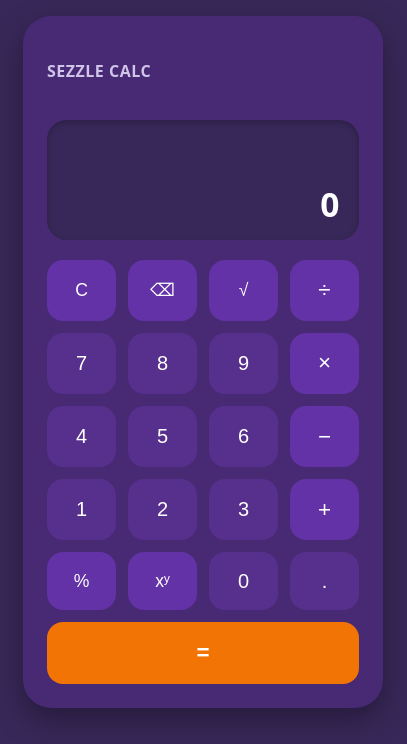
it: Calculator Component › handles user digit inputs, decimal, and backspace correctly
The image size is (407, 744).
Click the button "1": (82, 510) [47, 479, 116, 540]
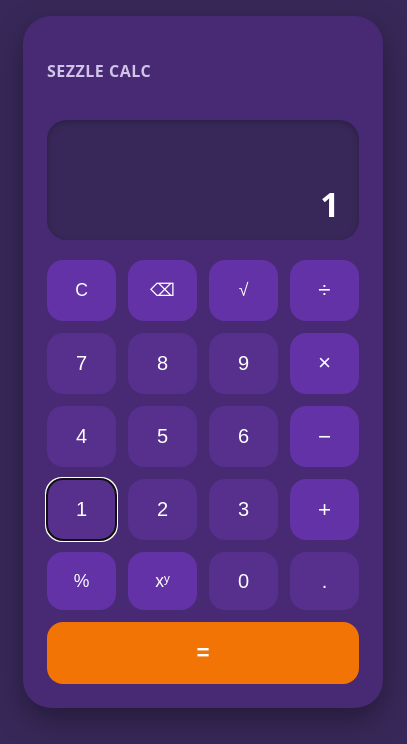
Click the button "2": (162, 510) [128, 479, 197, 540]
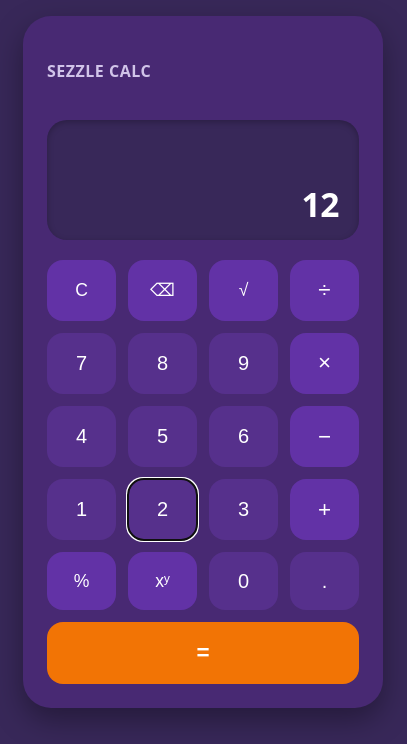
Click the button ".": (324, 581) [290, 552, 359, 610]
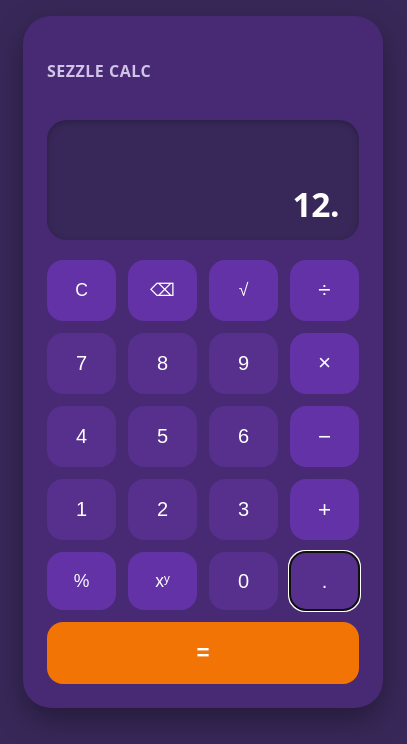
Click the button "5": (162, 436) [128, 406, 197, 467]
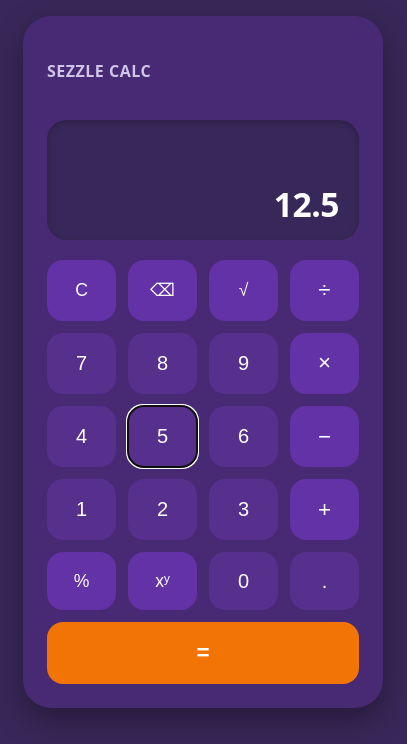
expect the text "12.5" is shown: met, box [274, 185, 339, 224]
Click the button named "backspace": (162, 290) [128, 260, 197, 321]
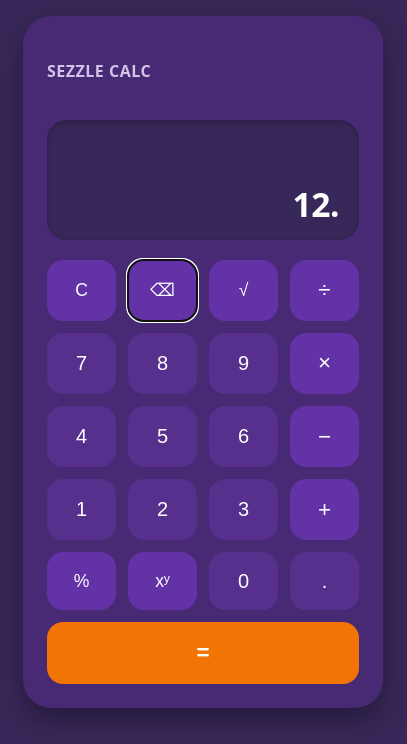
expect the text "12." is shown: met, box [292, 185, 339, 224]
Click the button "C": (82, 290) [47, 260, 116, 321]
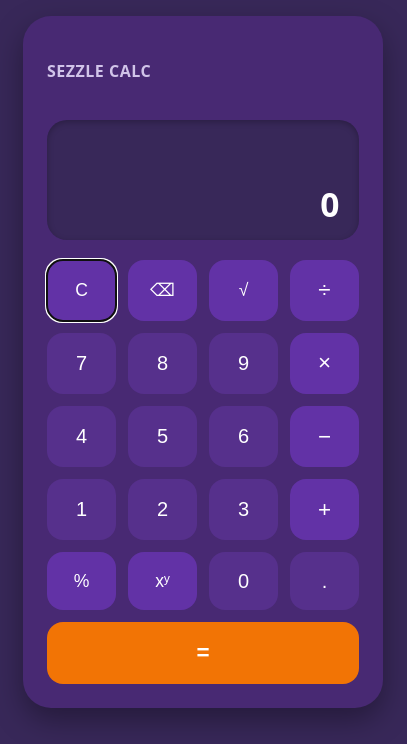
expect the text with test id "display-value" reads "0": met, box [320, 185, 339, 224]
